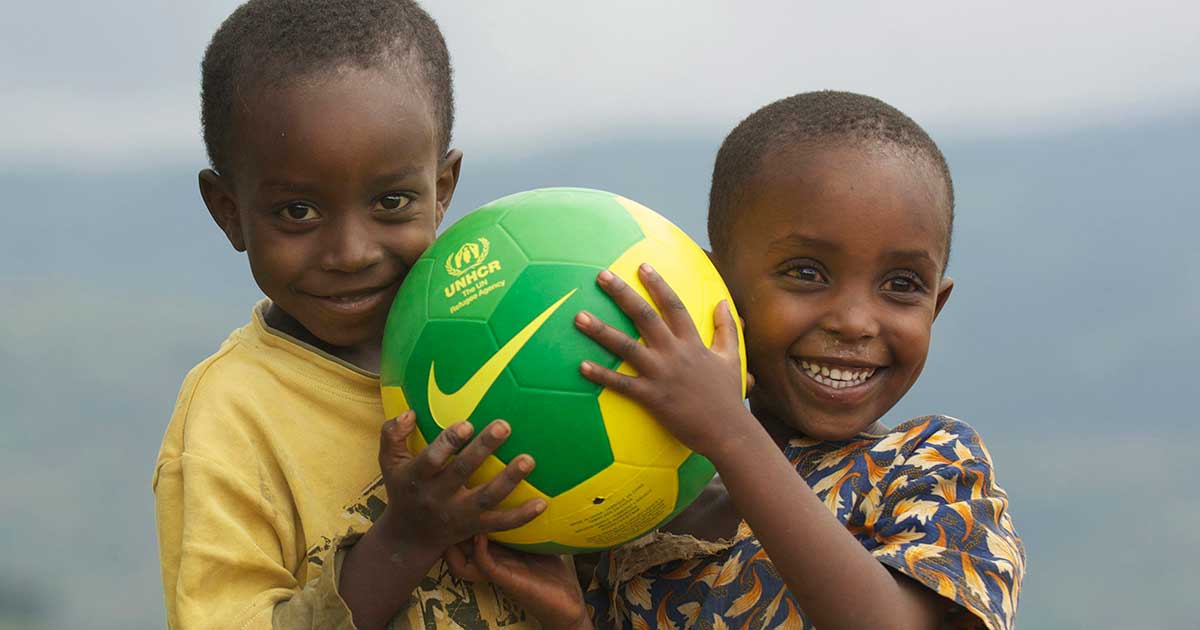human: (541, 64, 1037, 630), (126, 1, 466, 630)
